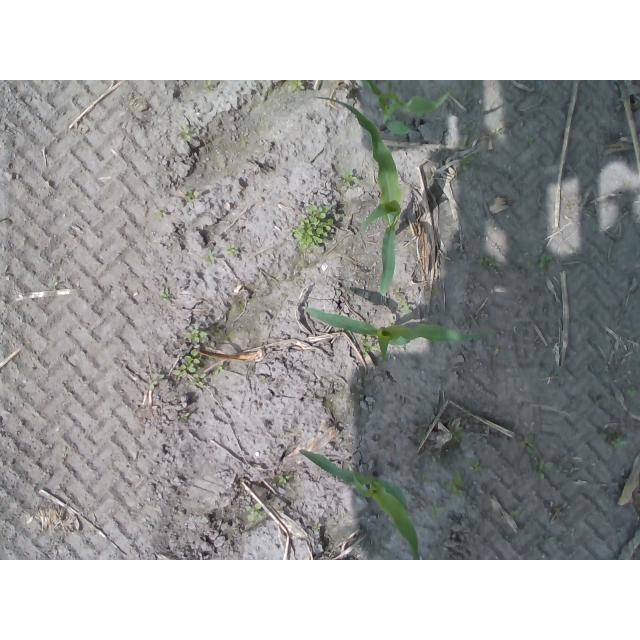Maize: (311, 96, 401, 297), (299, 450, 423, 559), (300, 306, 496, 363), (361, 80, 452, 136)
Weeds: (294, 200, 334, 248), (519, 439, 557, 482), (172, 348, 207, 388), (395, 287, 414, 313), (449, 472, 468, 498), (244, 502, 265, 523), (608, 433, 628, 452), (148, 368, 165, 389), (188, 328, 208, 342), (536, 254, 553, 270), (337, 169, 355, 184), (479, 255, 497, 268), (361, 336, 372, 357), (288, 80, 305, 92), (623, 385, 640, 397), (159, 288, 173, 302), (429, 506, 443, 520), (178, 127, 191, 142), (470, 459, 483, 473), (463, 156, 475, 171), (186, 191, 202, 202), (545, 536, 561, 544), (493, 345, 503, 357), (227, 245, 238, 255), (279, 475, 289, 486), (494, 128, 506, 137), (214, 366, 222, 375), (512, 510, 521, 518), (314, 522, 323, 530), (527, 136, 534, 144)
